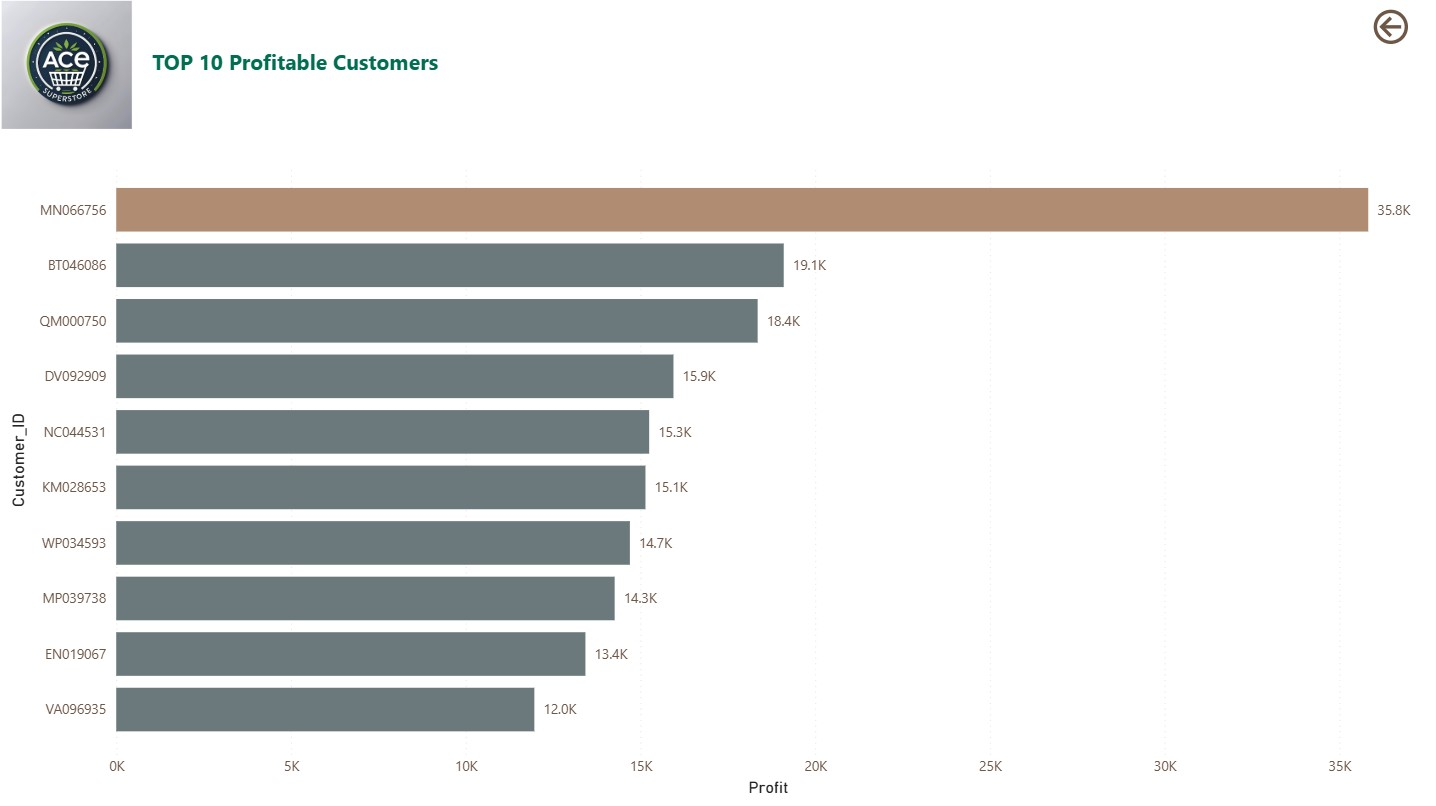

This screenshot's page, from the dashboard's own definition file:
{"tool":"powerbi","page":{"name":"TOP 10 customer","canvas":[1280,720],"ordinal":1},"visuals":[{"type":"actionButton","box":[1210.5,9.1,54.4,40.3],"z":0},{"type":"clusteredBarChart","title":"Top 10 Customers by Profitability","fields":{"Category":["rdamp customer_order_patterns.Customer_ID"],"Y":["Sum(rdamp customer_order_patterns.Profit)"]},"box":[7.1,138.5,1265,574.3],"z":1000},{"type":"image","box":[0,0,125,125],"z":2000},{"type":"textbox","box":[117.9,8.1,652.1,108.9],"z":3000}]}

Visuals, with their boxes in screenshot pixels (x1, y1, x2, y2), scaled from the page's 1280x720 canvas onto the 1436x806 screenshot:
actionButton: bbox=[1358, 10, 1419, 55]
"Top 10 Customers by Profitability" clusteredBarChart: bbox=[8, 155, 1427, 798]
image: bbox=[0, 0, 140, 140]
textbox: bbox=[132, 9, 864, 131]
